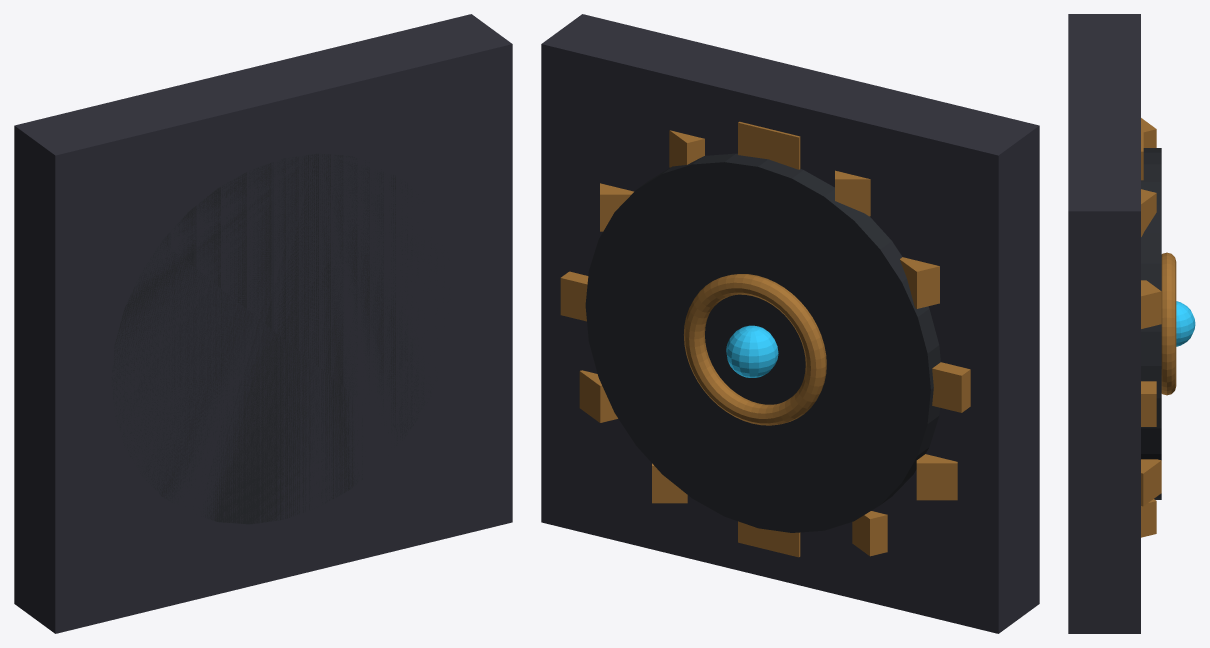
The model's file is obsidian_vault_door.obj.
3 views of the same model, side by side, from view 1: azimuth 30°, elevation 25°; view 2: azimuth 150°, elevation 25°; view 3: azimuth 270°, elevation 25° (orthographic). The views are drawn at different scales.
Parts seen in each view (by area): view 1: Cube, Cylinder; view 2: Cube, Cylinder, Torus, Sphere, Cube.004, Cube.008, Cube.007, Cube.006, Cube.010, Cube.009, Cube.012, Cube.005 (+4 smaller); view 3: Cube, Cylinder, Torus, Cube.002, Cube.012, Cube.001, Sphere, Cube.003, Cube.011, Cube.005.
Part boxes in pixels (<box>): Cube: <box>14,14,512,633</box>; Cylinder: <box>111,153,437,524</box>; Cube: <box>541,14,1039,633</box>; Cylinder: <box>585,153,940,532</box>; Torus: <box>683,274,826,425</box>; Sphere: <box>726,325,778,377</box>; Cube.004: <box>738,121,800,169</box>; Cube.008: <box>916,454,957,500</box>; Cube.007: <box>932,362,970,412</box>; Cube.006: <box>900,257,939,308</box>; Cube.010: <box>738,521,800,557</box>; Cube.009: <box>852,511,887,556</box>; Cube.012: <box>579,370,617,422</box>; Cube.005: <box>835,170,870,216</box>; Cube: <box>1068,14,1140,633</box>; Cylinder: <box>1141,148,1161,499</box>; Torus: <box>1161,252,1176,395</box>; Cube.002: <box>1141,280,1161,328</box>; Cube.012: <box>1141,459,1161,506</box>; Cube.001: <box>1141,381,1156,426</box>; Sphere: <box>1176,301,1195,346</box>; Cube.003: <box>1141,189,1156,236</box>; Cube.011: <box>1141,499,1156,537</box>; Cube.005: <box>1141,118,1156,147</box>.
Size of the model in its own units: 9 by 9 by 2.45.
